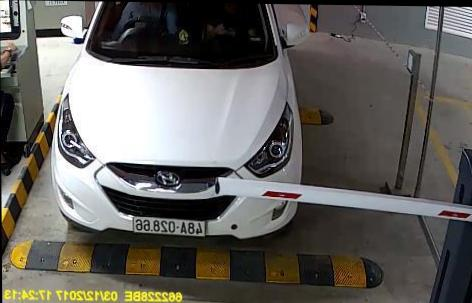License_Plate: (131, 214, 208, 238)
